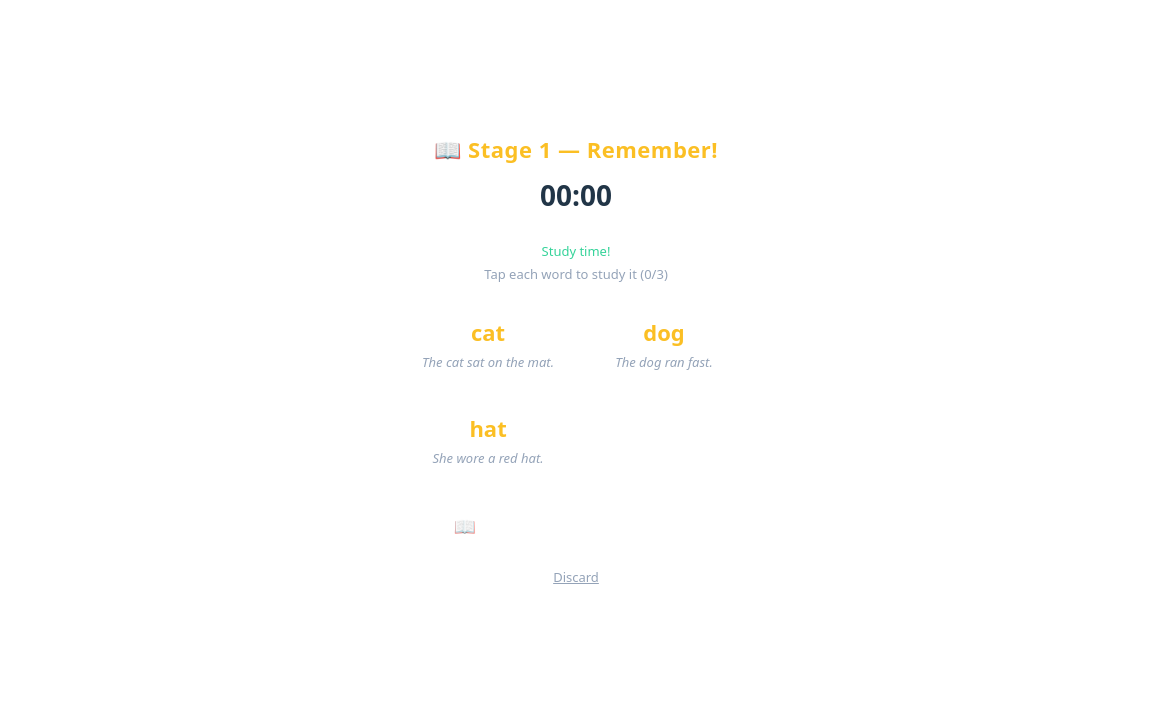
Scenario: Stage1Screen word-click validation › dismisses card when clicking outside after countdown finishes
Click the text "cat": click(488, 344) 405,300 -> 571,387
Wait 3000 ms
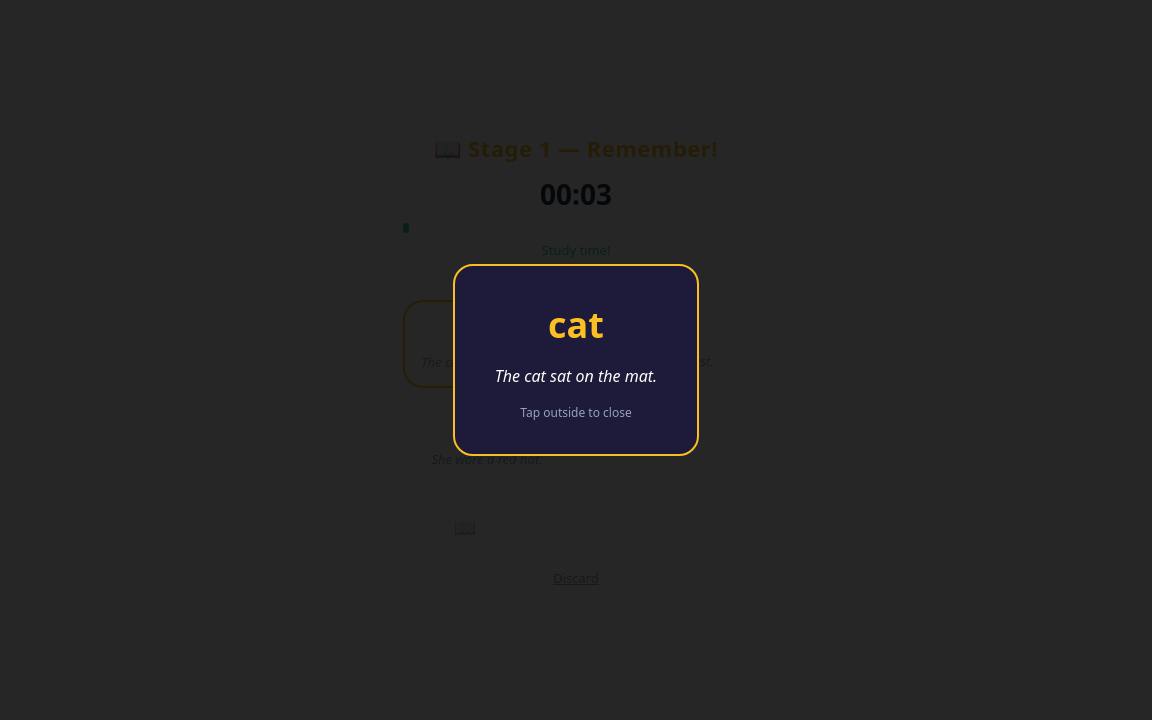
Now click outside to dismiss
Click the element with test id "floating-overlay": click(69, 360) 0,0 -> 1151,719
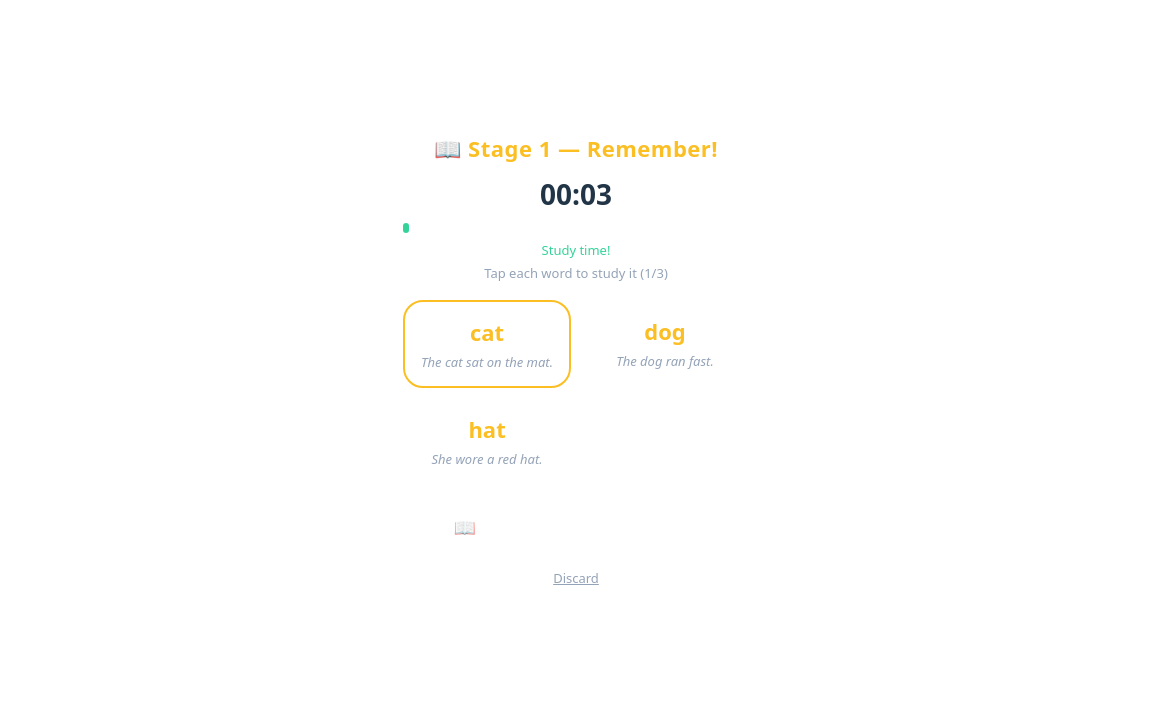
expect the button with test id "ready-button" shows "1/3": met, box 403,500 -> 749,552
expect the element with test id "floating-overlay" is gone: met
